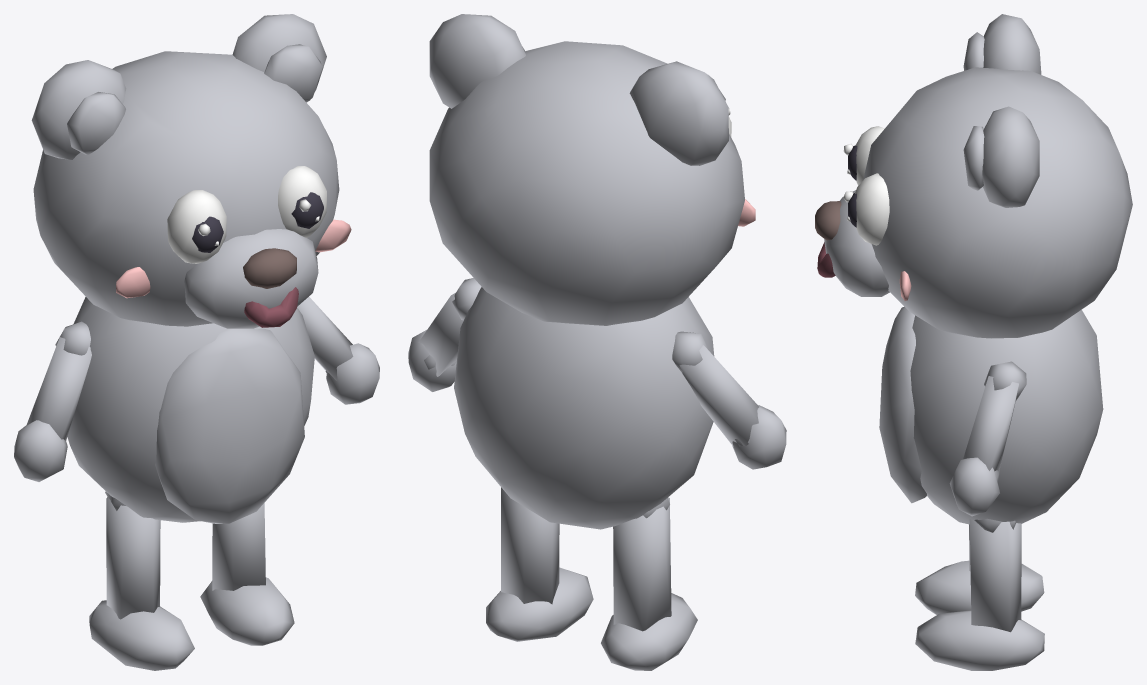
The model's file is Bear.fbx.
3 views of the same model, side by side, from view 1: azimuth 30°, elevation 25°; view 2: azimuth 150°, elevation 25°; view 3: azimuth 270°, elevation 25° (orthographic). The views are drawn at different scales.
Parts seen in each view (by area): view 1: EX_Bear; view 2: EX_Bear; view 3: EX_Bear.
Part boxes in pixels (x1,y1,x2,y2): EX_Bear: (14,14,379,670); EX_Bear: (408,14,786,670); EX_Bear: (815,14,1132,670).
Bounding box in the file's own units: 141 × 219 × 110.
